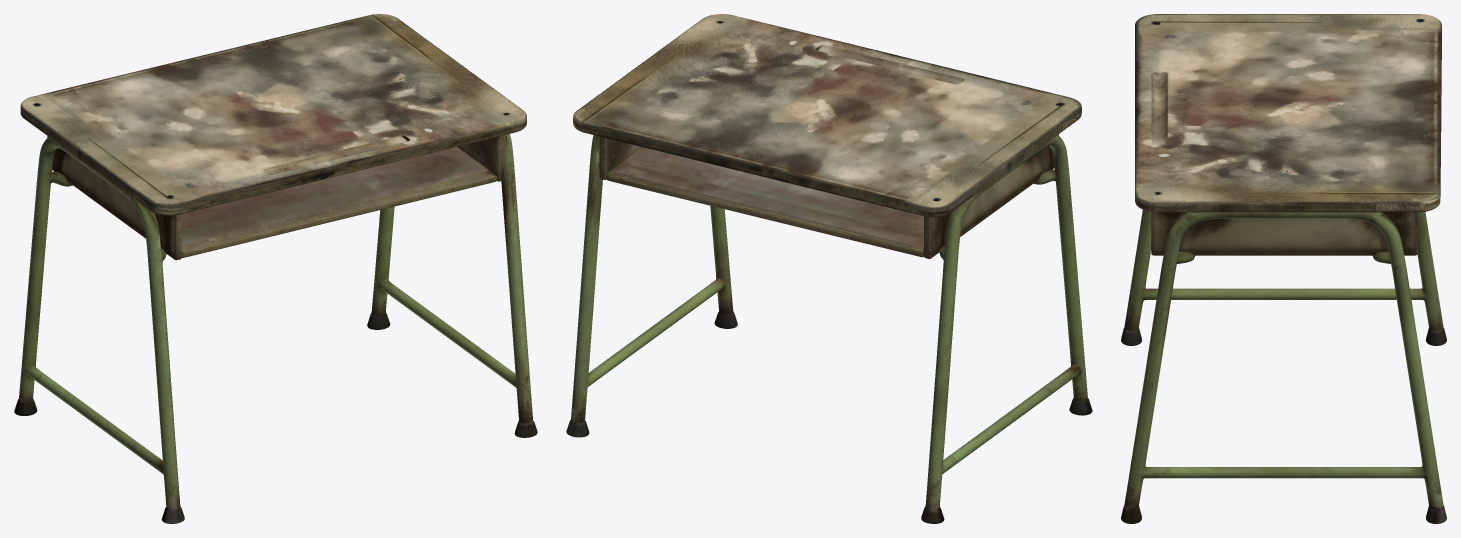
The model's file is Meshy_AI_okul_masası_0311114220_texture.fbx.
3 views of the same model, side by side, from view 1: azimuth 30°, elevation 25°; view 2: azimuth 150°, elevation 25°; view 3: azimuth 270°, elevation 25° (orthographic). The views are drawn at different scales.
Visible parts, largest first — view 1: Mesh_0; view 2: Mesh_0; view 3: Mesh_0.
Boxes of the visible parts, x1=… form: Mesh_0: x1=14, y1=14, x2=537, y2=523; Mesh_0: x1=566, y1=14, x2=1092, y2=523; Mesh_0: x1=1121, y1=14, x2=1446, y2=523.
Size of the model in its own units: 190 by 151 by 138.
Materials: 1 (1 with a texture image).
